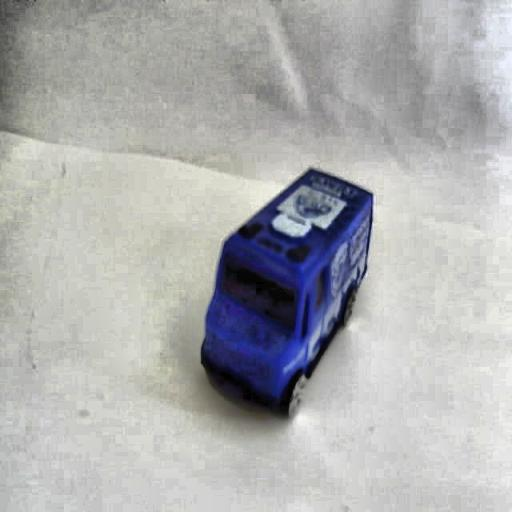police car: (198, 162, 375, 436)
